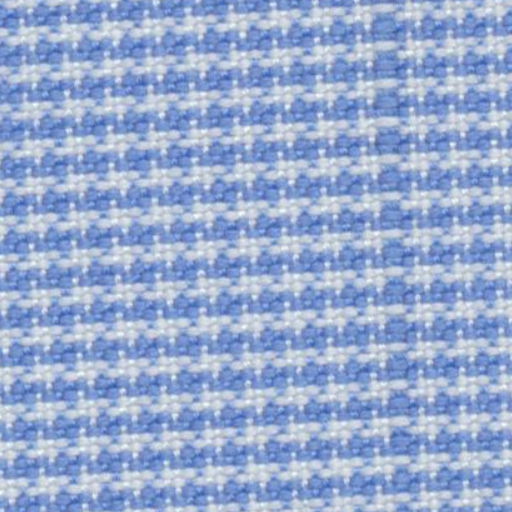TuoSha: (348, 18, 457, 494)
